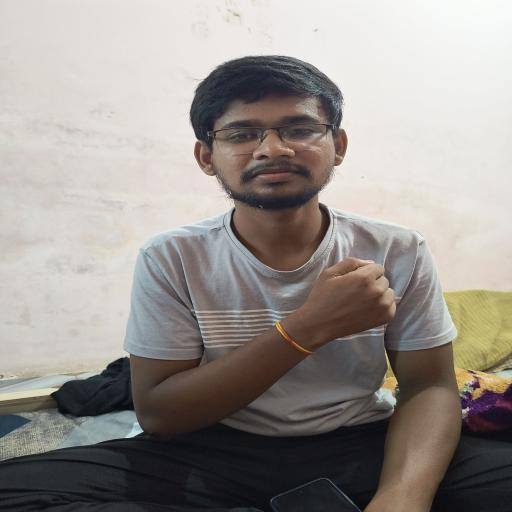Understood: (99, 215, 416, 442)
